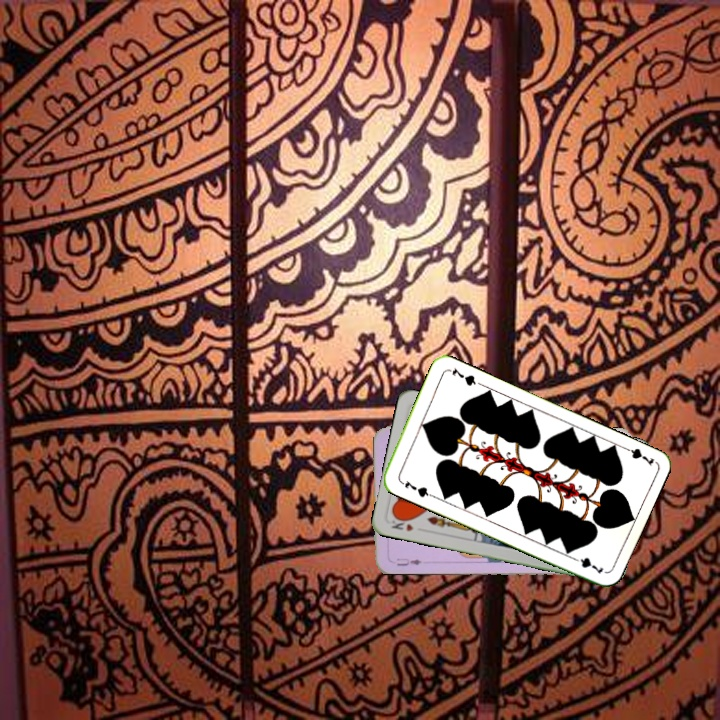EU: (393, 554, 424, 568)
G7: (617, 442, 656, 469), (395, 476, 434, 500)
HK: (387, 513, 416, 534)
